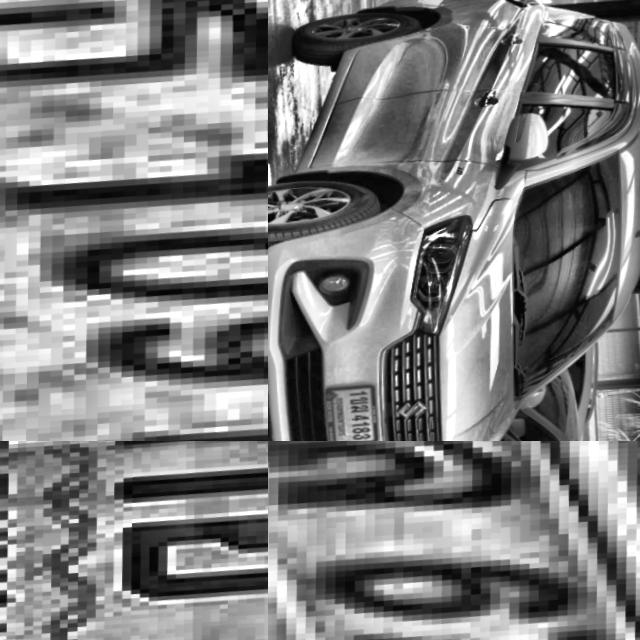license-plate: (0, 0, 268, 441), (268, 441, 640, 640), (0, 441, 268, 640), (316, 387, 378, 441)
